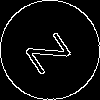Z: (25, 25, 80, 76)
